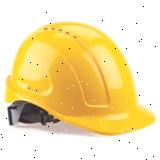Helmet: (3, 20, 158, 136)
